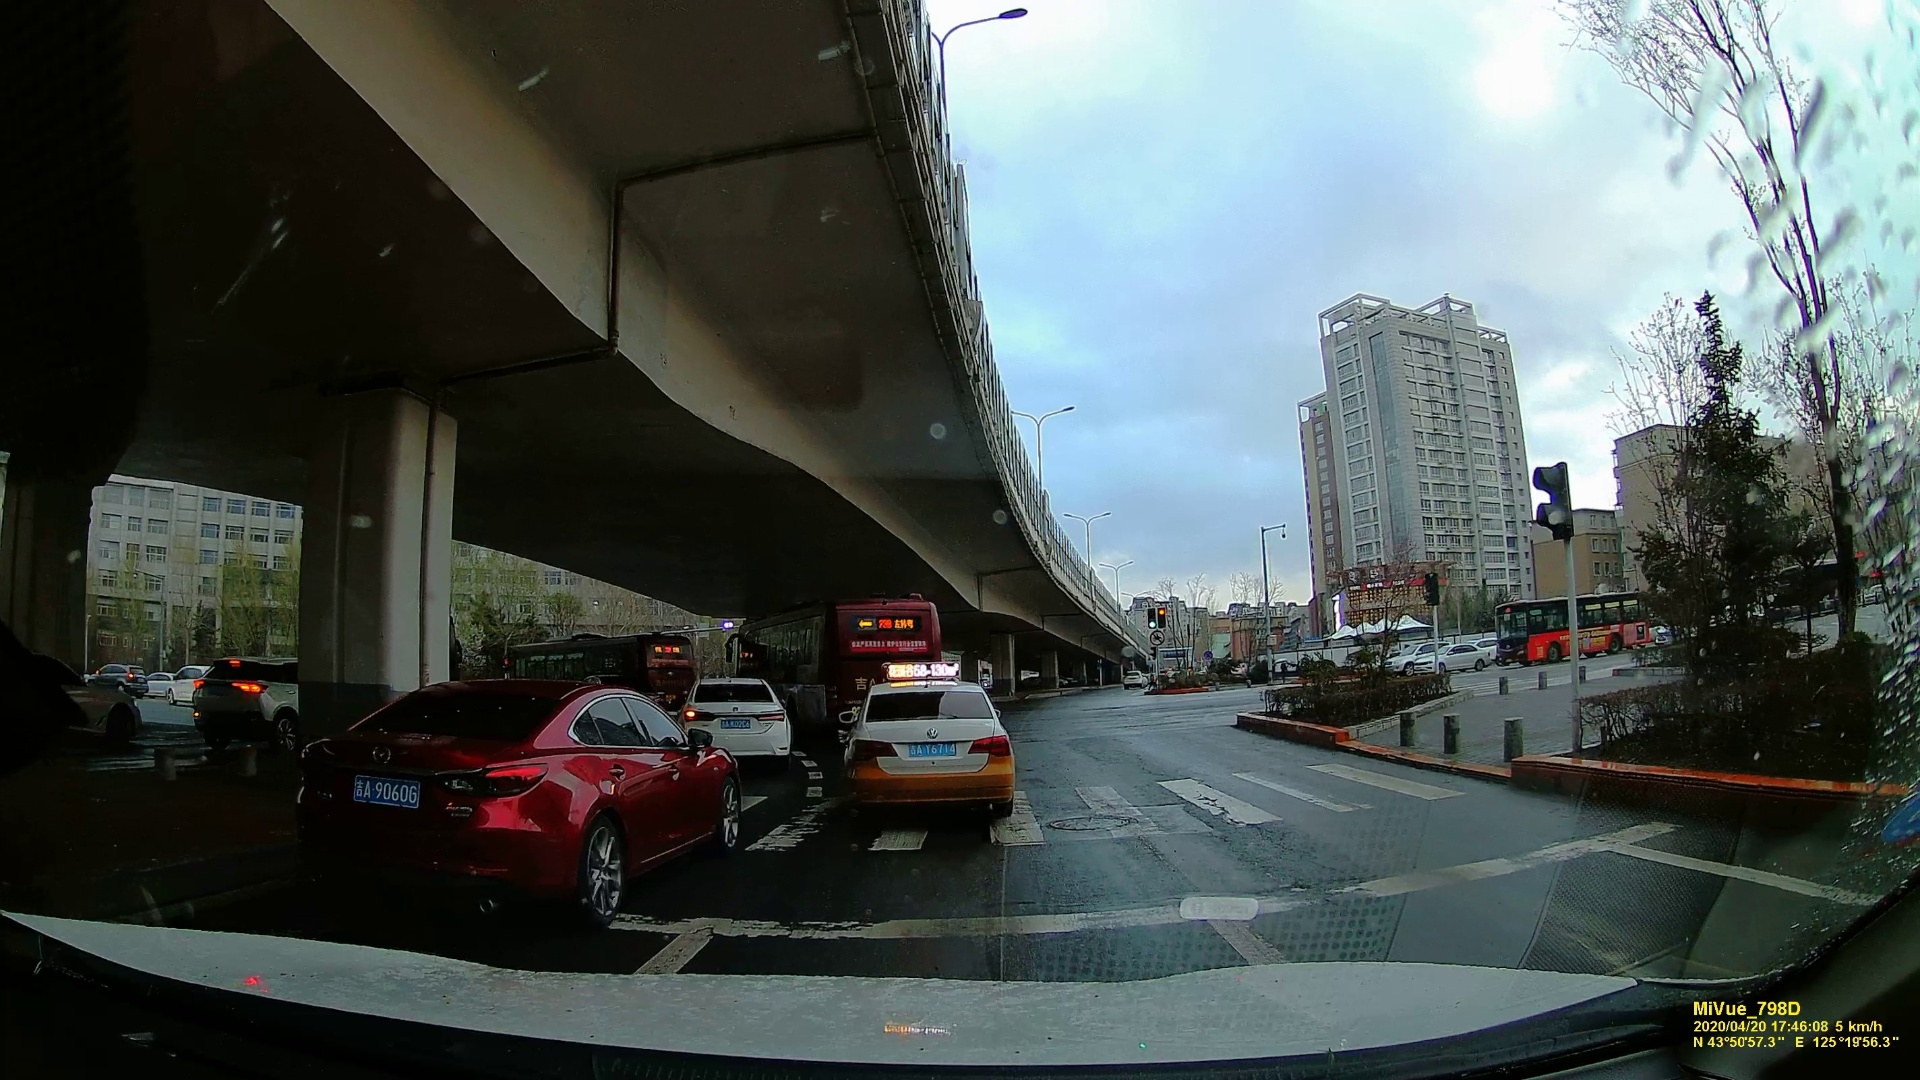bus: (731, 596, 938, 705), (1490, 592, 1643, 666)
traffic_sign: (1534, 458, 1567, 534), (1147, 607, 1156, 630), (1156, 607, 1166, 629)
vehicle: (311, 661, 742, 930), (837, 675, 1018, 825), (179, 654, 297, 746), (680, 676, 789, 764), (91, 663, 136, 687), (1124, 670, 1145, 688)
